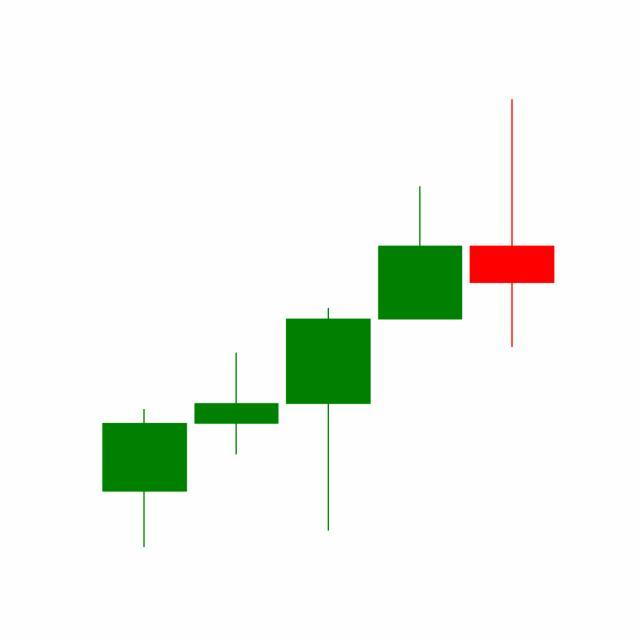Spinning Top: (466, 97, 559, 351)
